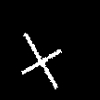single_crochet: (21, 33, 61, 88)
